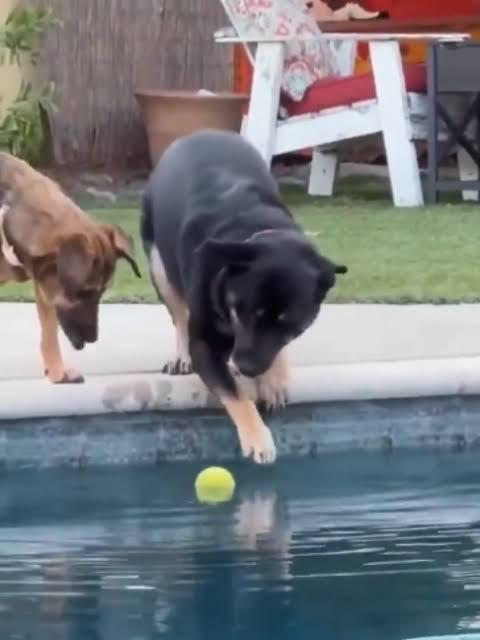adult_dog: (139, 130, 347, 465), (0, 145, 144, 385)
